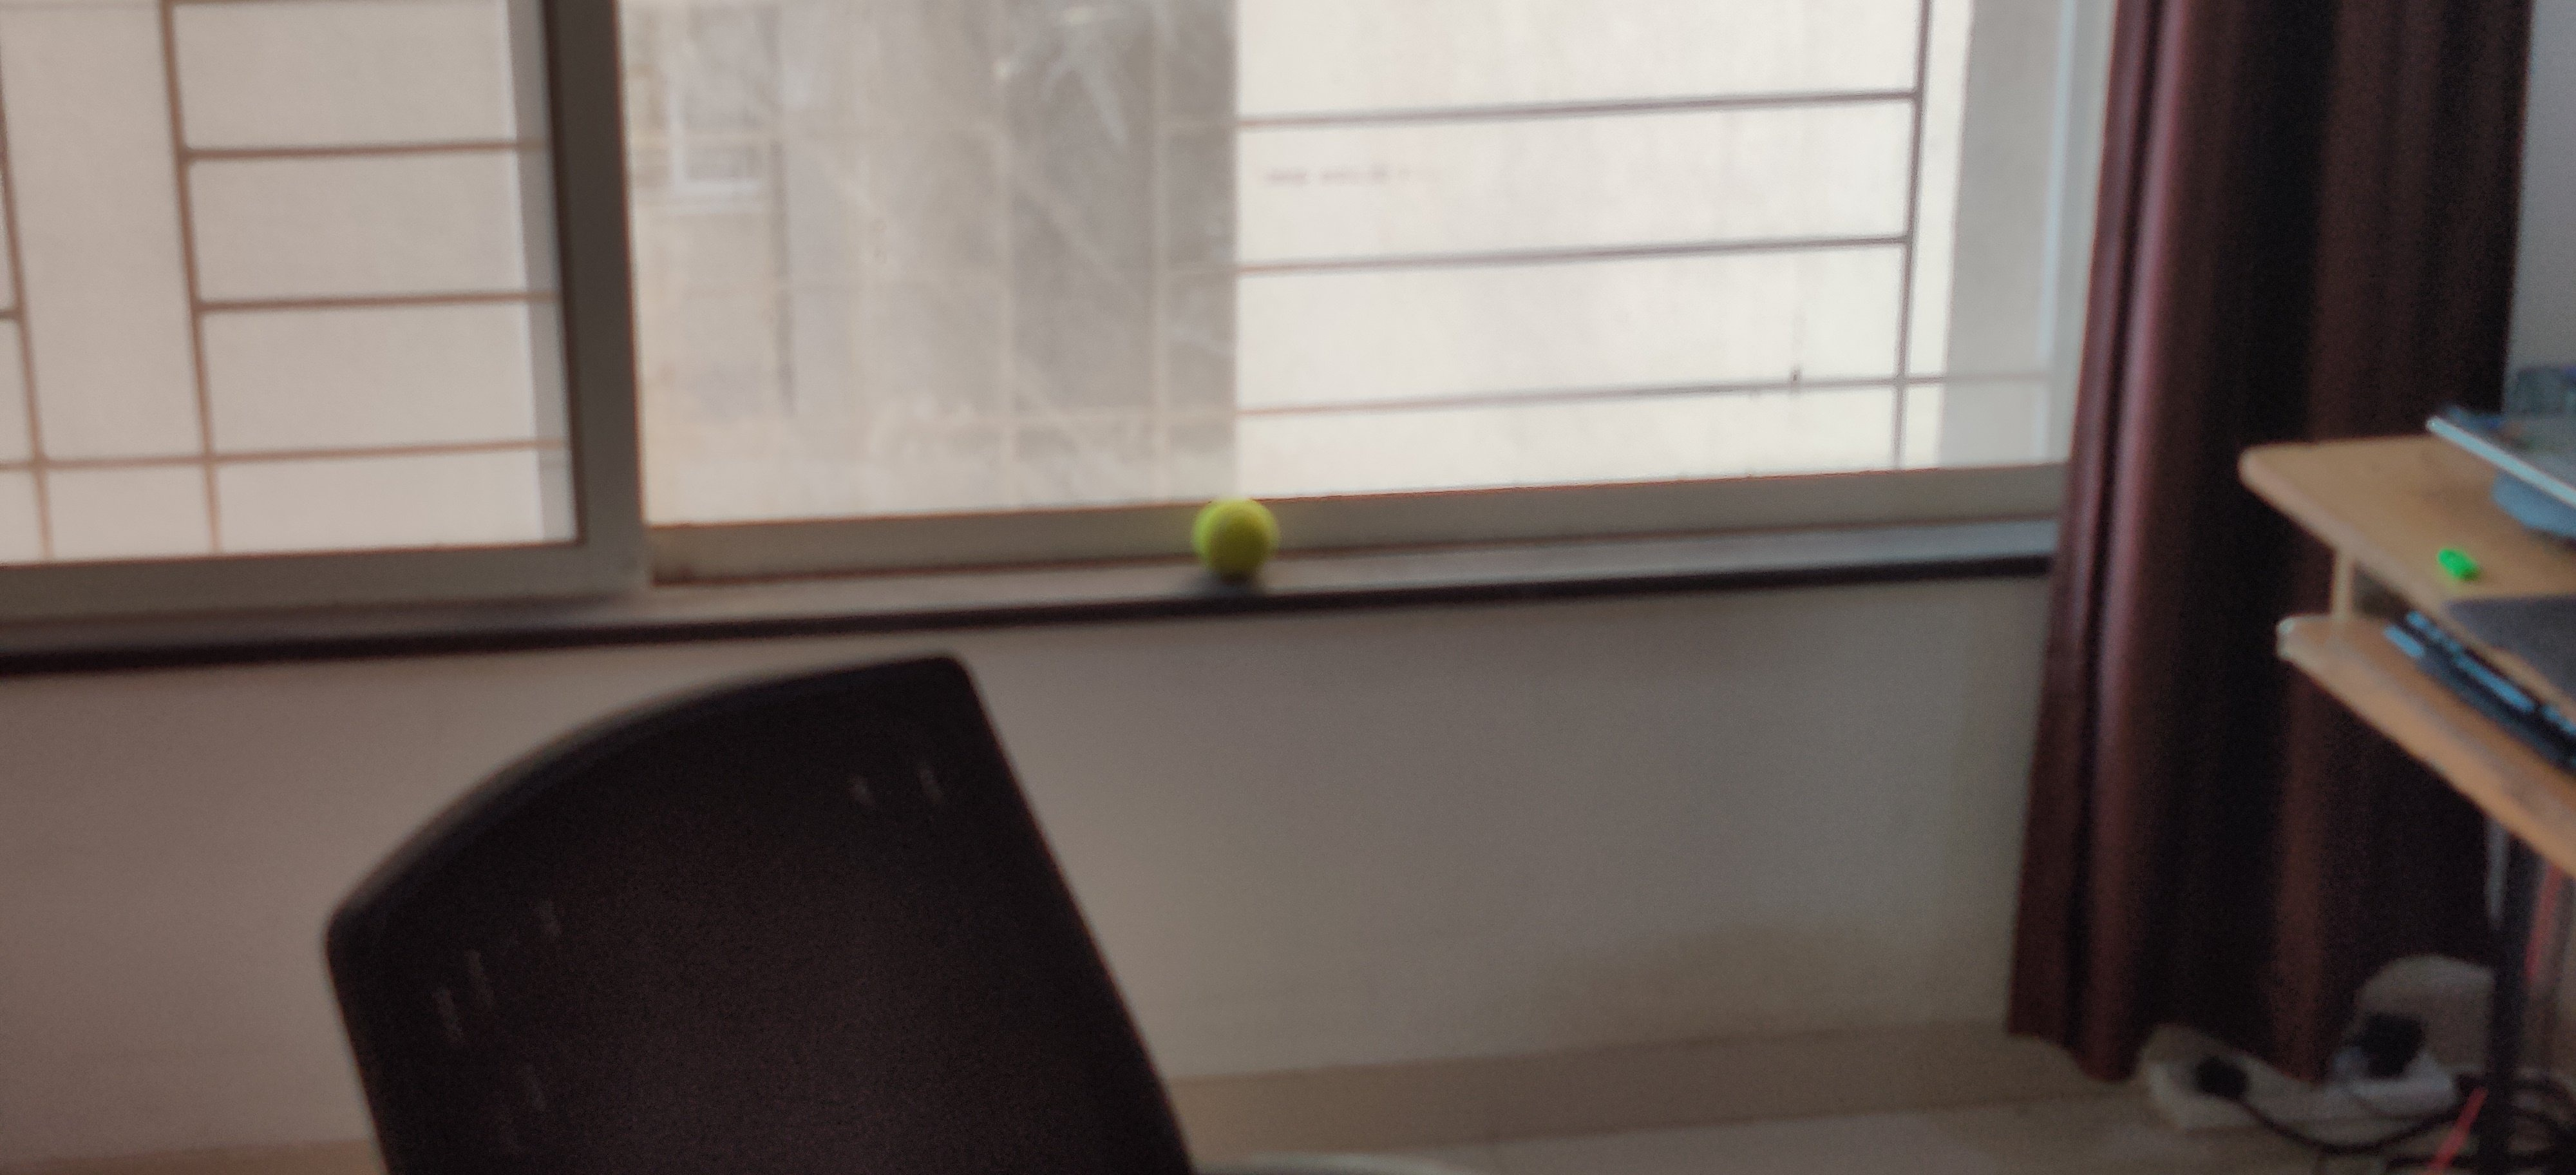Tennis-Ball: (1191, 498, 1278, 577)
